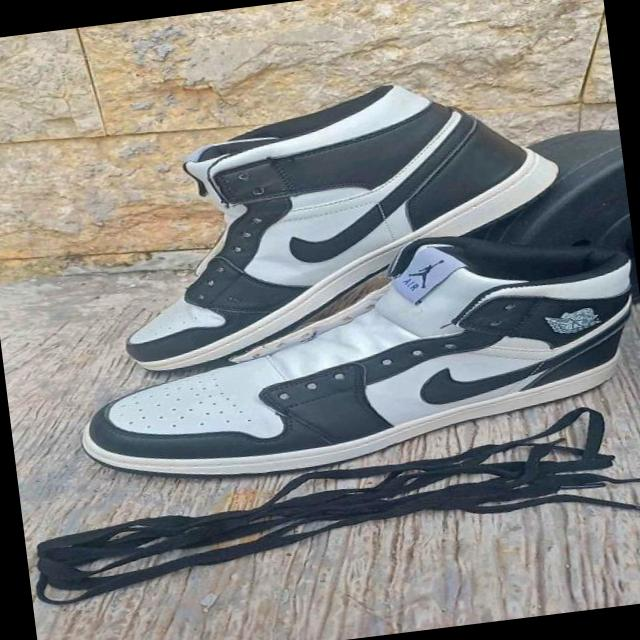nike_fake_jordan: (58, 212, 640, 500), (93, 54, 575, 376)
